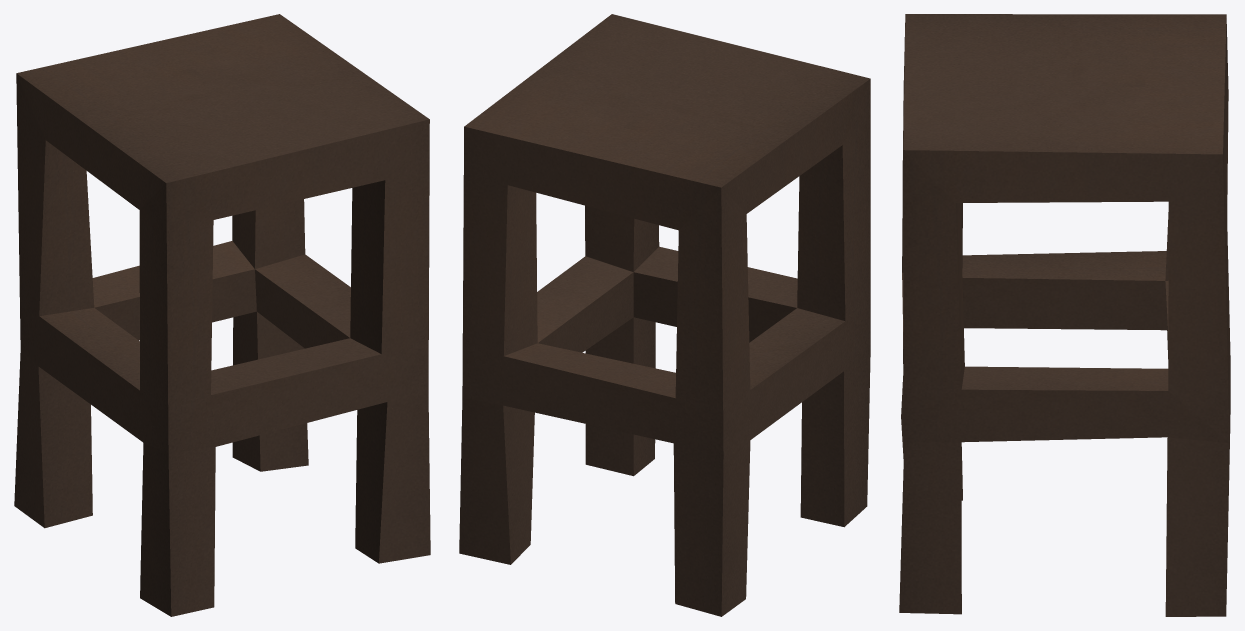
Rendered from veryweirdtable.fbx.
The picture shows the model from 3 angles, left to right: view 1: azimuth 30°, elevation 25°; view 2: azimuth 150°, elevation 25°; view 3: azimuth 270°, elevation 25°; orthographic projection. The views are drawn at different scales.
Parts seen in each view (by area): view 1: veryweirdtable; view 2: veryweirdtable; view 3: veryweirdtable.
Part boxes in pixels (x1=…): veryweirdtable: x1=14, y1=14, x2=430, y2=616; veryweirdtable: x1=459, y1=14, x2=870, y2=616; veryweirdtable: x1=899, y1=14, x2=1230, y2=616.
Bounding box in the file's own units: 0.5273 × 0.5268 × 0.8175.
1 material, 1 textured.
